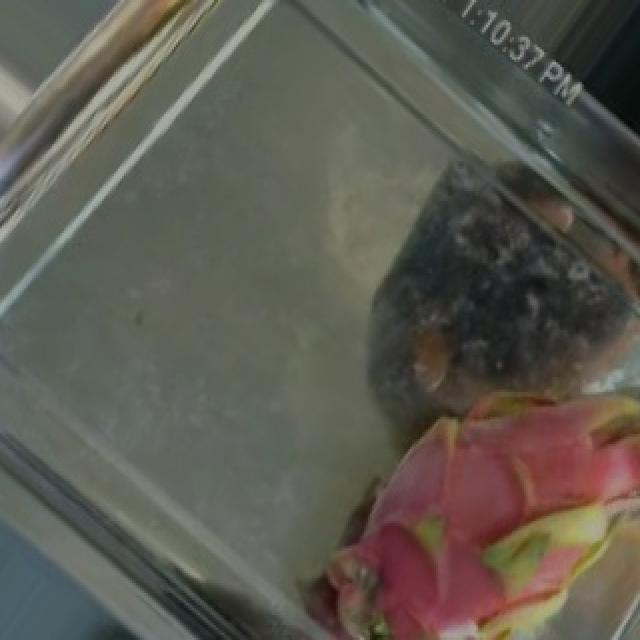fruit: (262, 285, 640, 640)
